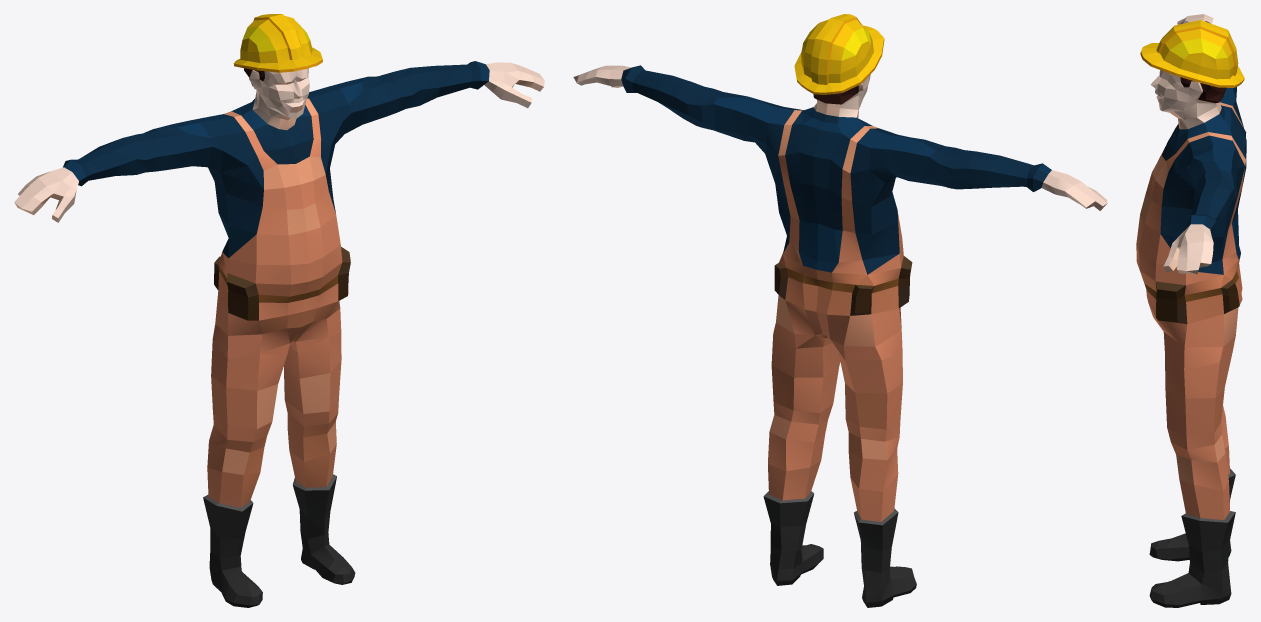
File: worker_Male_constructor_C-model.obj
The picture shows the model from 3 angles, left to right: view 1: azimuth 30°, elevation 25°; view 2: azimuth 150°, elevation 25°; view 3: azimuth 270°, elevation 25°; orthographic projection. The views are drawn at different scales.
Visible parts, largest first — view 1: worker_Male_constructor_C; view 2: worker_Male_constructor_C; view 3: worker_Male_constructor_C.
Part boxes in pixels (<box>): worker_Male_constructor_C: <box>14,14,544,607</box>; worker_Male_constructor_C: <box>573,14,1107,607</box>; worker_Male_constructor_C: <box>1136,14,1246,607</box>.
Size of the model in its own units: 168 by 172 by 30.96.
